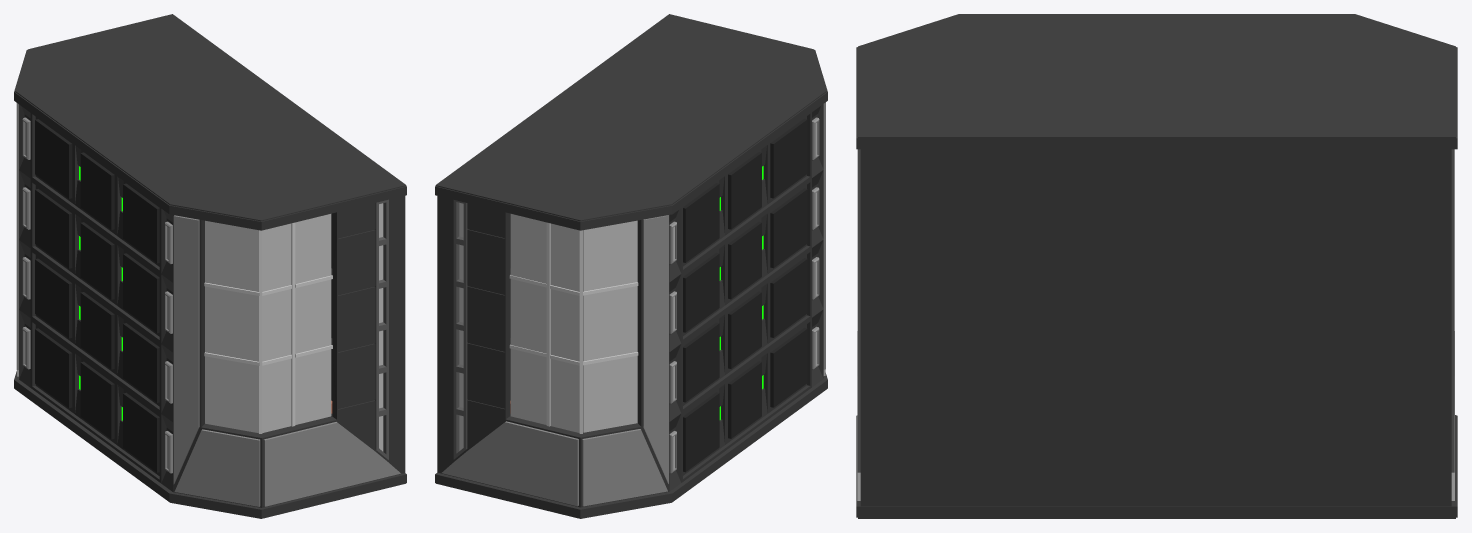
The model's file is Building_07_B_Fake Interior.FBX.
3 renders of one model, left to right at view 1: azimuth 30°, elevation 25°; view 2: azimuth 150°, elevation 25°; view 3: azimuth 270°, elevation 25°, orthographic. The views are drawn at different scales.
Parts seen in each view (by area): view 1: Building_07_B_Fake Interior_LOD0; view 2: Building_07_B_Fake Interior_LOD0; view 3: Building_07_B_Fake Interior_LOD0.
Part boxes in pixels (<box>): Building_07_B_Fake Interior_LOD0: <box>14,14,406,518</box>; Building_07_B_Fake Interior_LOD0: <box>435,14,827,518</box>; Building_07_B_Fake Interior_LOD0: <box>856,14,1457,518</box>.
Size of what is drawn, in the model's own units: 593 by 856 by 1220.
